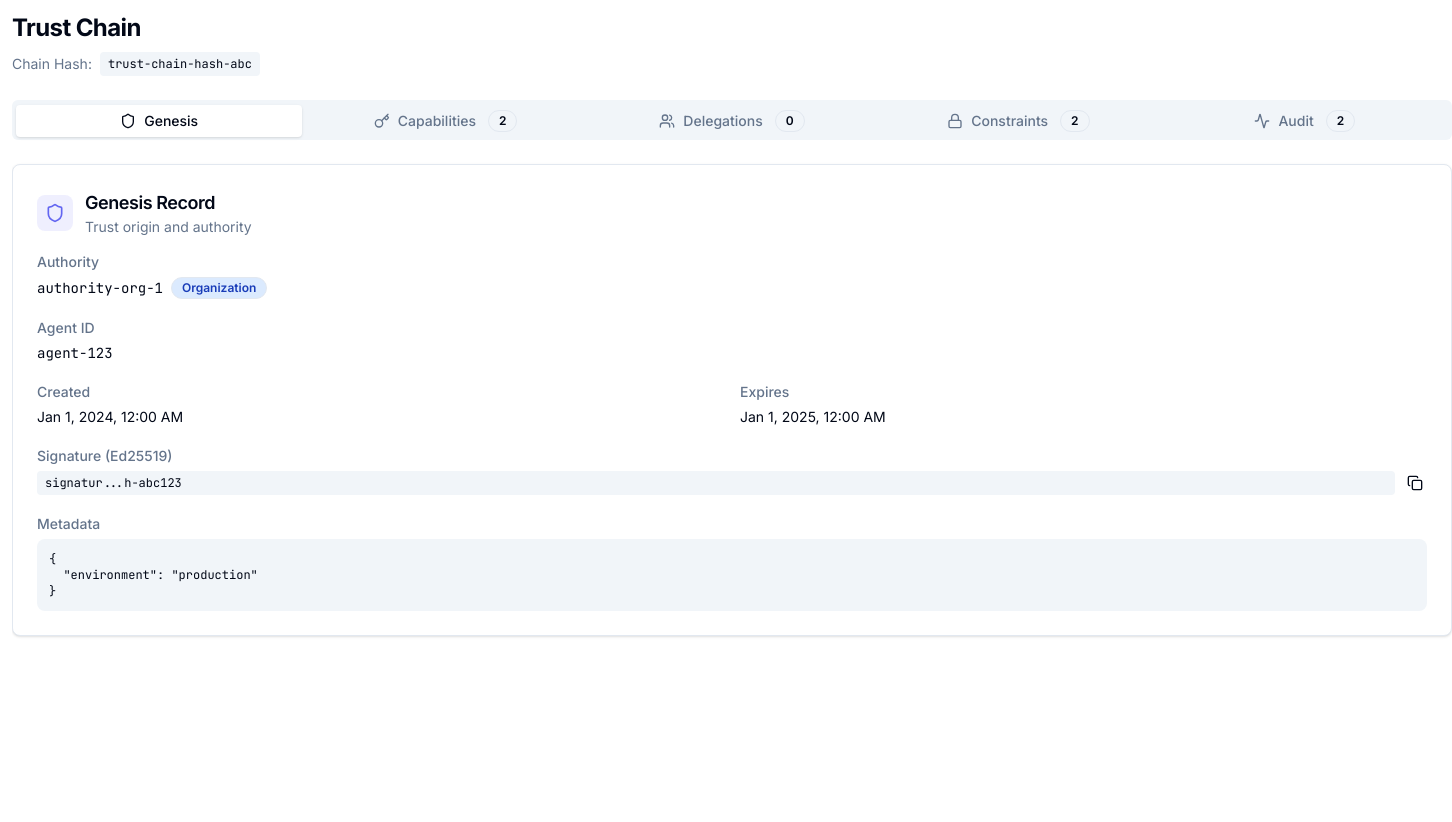
Scenario: TrustChainViewer › Delegations tab › should show empty state when no delegations
Click the tab "Delegations 0": (732, 121) [589,104,875,138]
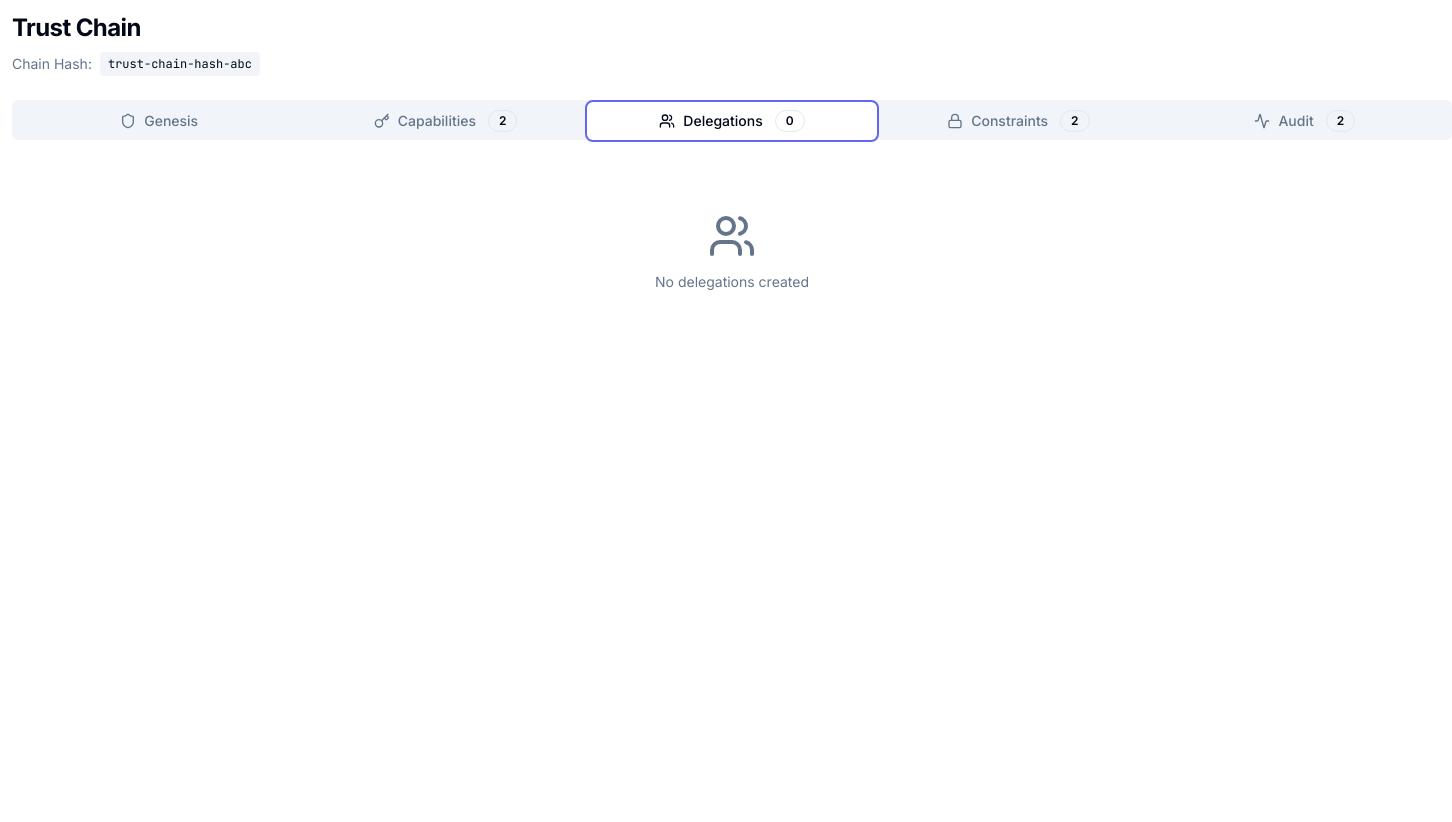
Expected: the text "No delegations created" is shown, [655,272,809,292]
